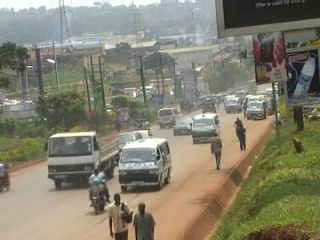Car: (114, 129, 144, 153), (172, 116, 194, 136), (134, 127, 155, 144)
Motorcycle: (84, 167, 112, 215), (0, 158, 13, 193)
